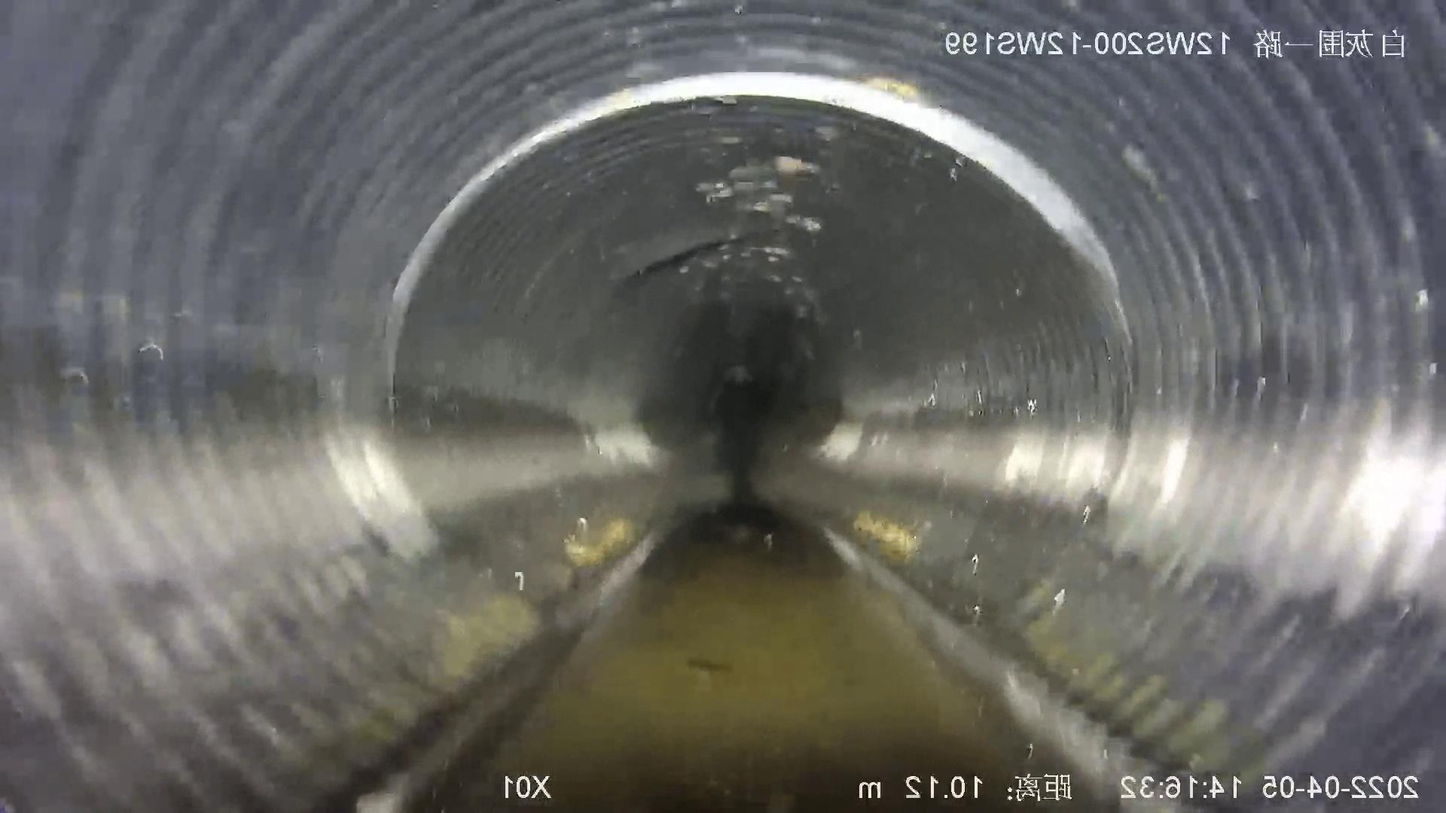CKTJ: (374, 72, 1128, 400)
